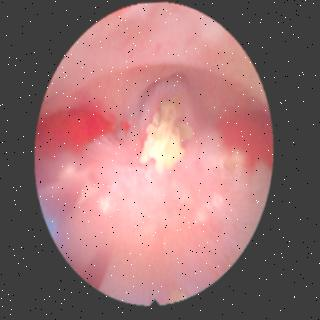stone: (142, 99, 192, 172)
tissue: (39, 7, 270, 301)
